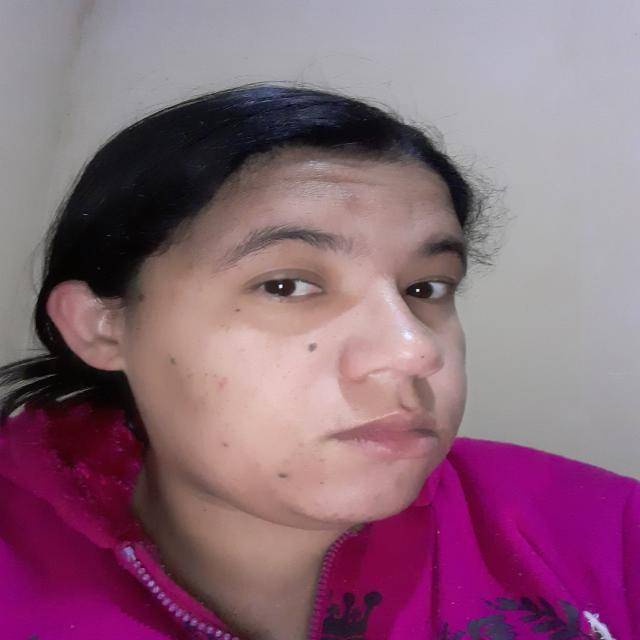Acne: (195, 368, 238, 396), (128, 286, 159, 316), (290, 336, 326, 360), (338, 187, 369, 210), (212, 428, 238, 452), (314, 452, 332, 484), (272, 462, 294, 486), (158, 350, 184, 370)
